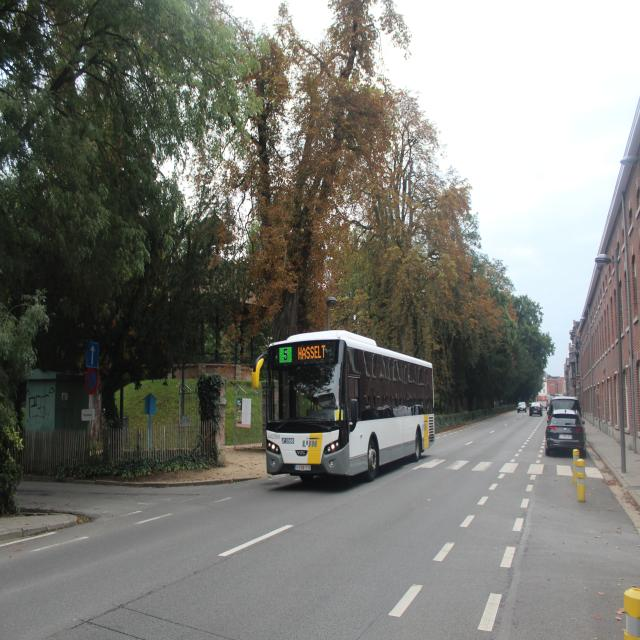bus-number: (280, 348, 292, 362)
